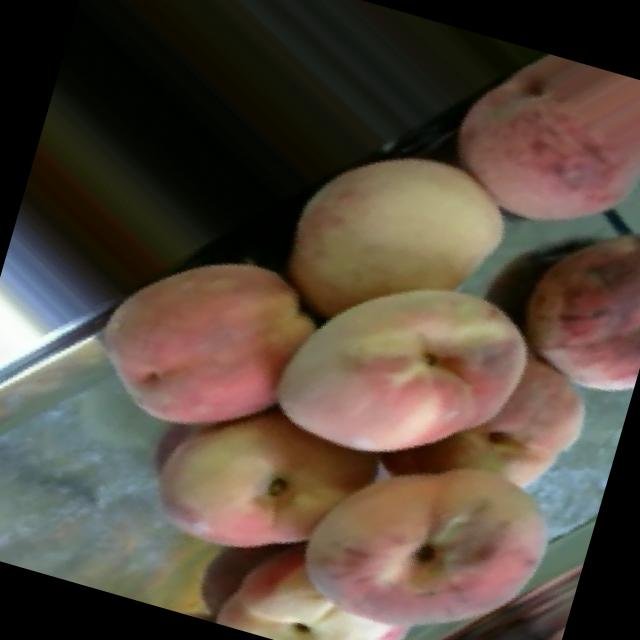Fruit: (233, 203, 585, 531), (257, 368, 608, 640), (258, 88, 559, 388), (64, 208, 354, 480), (118, 356, 398, 608), (403, 27, 640, 293), (471, 166, 640, 434)
